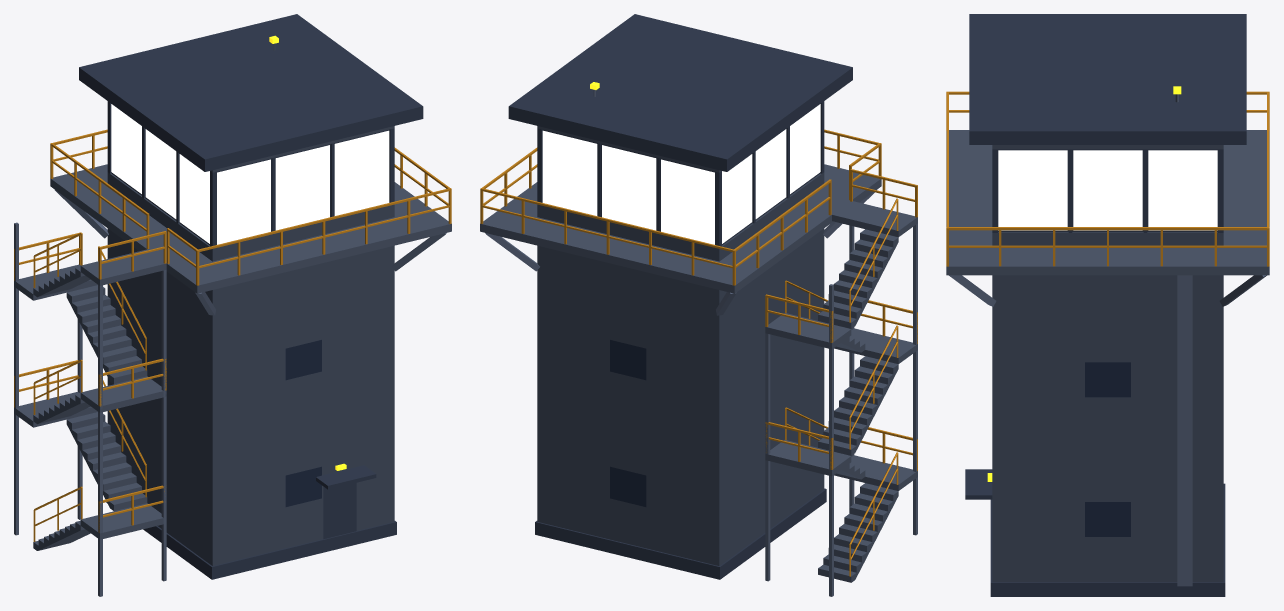
Rendered from rail_control_tower.glb.
3 views of the same model, side by side, from view 1: azimuth 30°, elevation 25°; view 2: azimuth 150°, elevation 25°; view 3: azimuth 270°, elevation 25° (orthographic). The views are drawn at different scales.
Parts seen in each view (by area): view 1: shaft, cab_frame, gallery, cab_glass, railing, steelwork, shaft_window; view 2: shaft, cab_frame, gallery, cab_glass, railing, steelwork, shaft_window; view 3: shaft, cab_frame, gallery, cab_glass, steelwork, railing, shaft_window.
Part boxes in pixels (x1,y1,x2,y2): shaft: (107,126,394,565); cab_frame: (79,14,423,579); gallery: (14,164,451,550); cab_glass: (111,104,389,244); railing: (14,129,451,541); steelwork: (14,43,446,596); shaft_window: (285,340,321,506); shaft: (537,126,824,565); cab_frame: (508,14,852,579); gallery: (480,164,917,582); cab_glass: (542,104,820,244); railing: (480,129,917,576); steelwork: (485,90,917,596); shaft_window: (610,340,646,506); shaft: (992,145,1223,582); cab_frame: (965,14,1246,596); gallery: (946,130,1269,275); cab_glass: (998,150,1217,230); steelwork: (949,94,1266,586); railing: (946,91,1269,266); shaft_window: (1085,362,1130,536).
Size of the model in its own units: 10.6 by 14 by 8.4.
